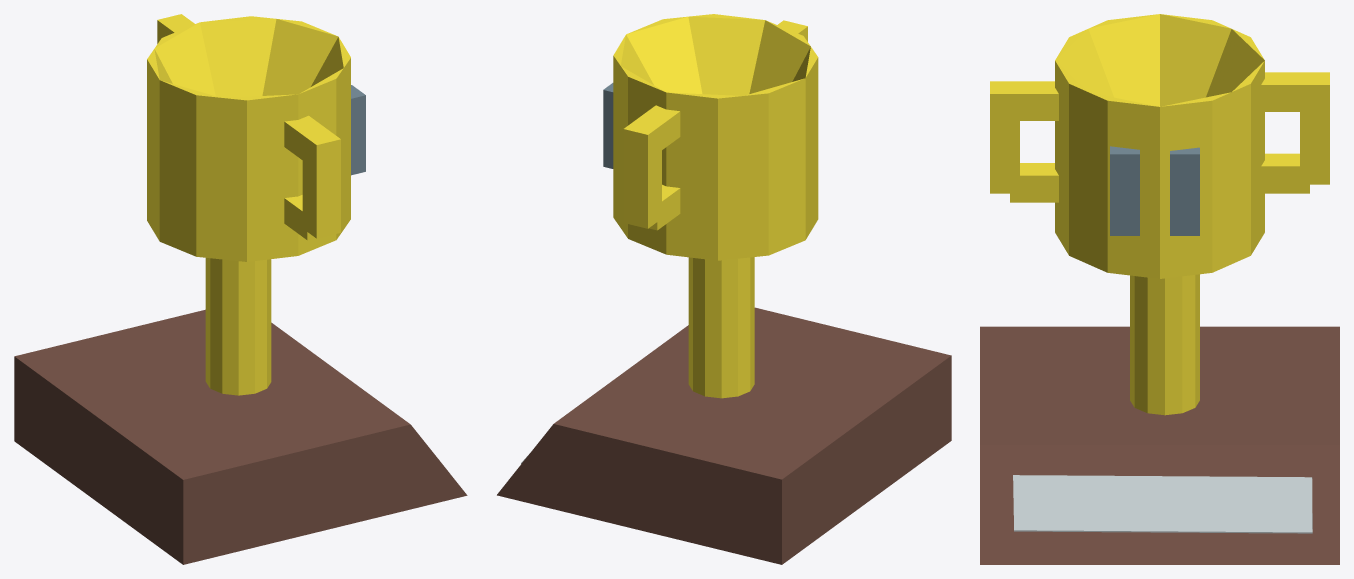
Rendered from model-triangulated.obj.
3 renders of one model, left to right at view 1: azimuth 30°, elevation 25°; view 2: azimuth 150°, elevation 25°; view 3: azimuth 270°, elevation 25°, orthographic. The views are drawn at different scales.
Visible parts, largest first — view 1: group148577515, group1923784054, group221688594, group285467017, group1926949851, group8622278, group354905375, group396019499; view 2: group148577515, group1923784054, group221688594, group17517614, group972894490, group354905375, group1884784408, group854163695; view 3: group148577515, group1923784054, group2049908474, group221688594, group285467017, group17517614, group972894490, group8622278, group1884784408, group1926949851, group396019499, group854163695 (+1 smaller).
Part boxes in pixels (<box>): group148577515: <box>14,309,467,564</box>; group1923784054: <box>147,16,350,261</box>; group221688594: <box>205,258,271,378</box>; group285467017: <box>302,129,340,238</box>; group1926949851: <box>284,115,340,170</box>; group8622278: <box>351,85,365,175</box>; group354905375: <box>205,365,271,395</box>; group396019499: <box>284,195,315,240</box>; group148577515: <box>497,307,951,564</box>; group1923784054: <box>613,14,818,260</box>; group221688594: <box>688,257,754,381</box>; group17517614: <box>623,119,661,228</box>; group972894490: <box>623,105,680,160</box>; group354905375: <box>688,368,754,398</box>; group1884784408: <box>603,83,613,168</box>; group854163695: <box>649,184,680,230</box>; group148577515: <box>980,326,1339,564</box>; group1923784054: <box>1055,14,1264,278</box>; group2049908474: <box>1013,475,1312,533</box>; group221688594: <box>1130,274,1199,396</box>; group285467017: <box>990,81,1019,193</box>; group17517614: <box>1300,72,1329,184</box>; group972894490: <box>1261,72,1329,111</box>; group8622278: <box>1110,146,1139,235</box>; group1884784408: <box>1170,147,1199,235</box>; group1926949851: <box>990,81,1058,120</box>; group396019499: <box>1010,163,1058,202</box>; group854163695: <box>1261,153,1309,193</box>.
Bounding box in the file's own units: 0.35 × 0.4849 × 0.36.
